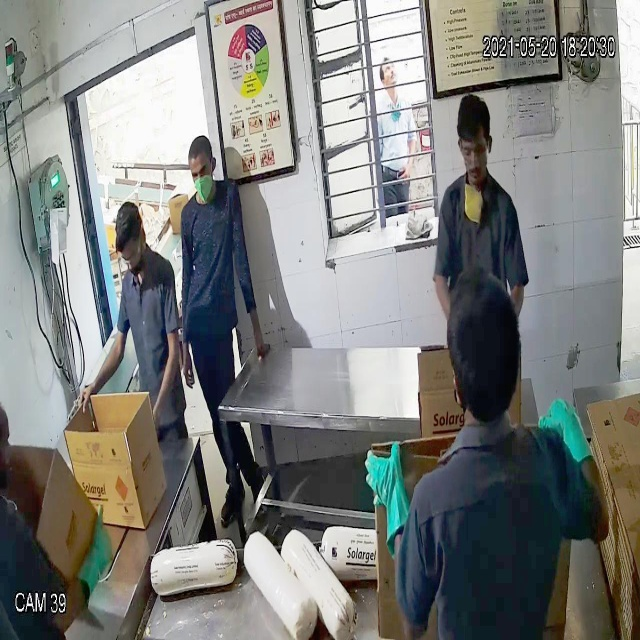Gafas: (458, 138, 490, 161)
